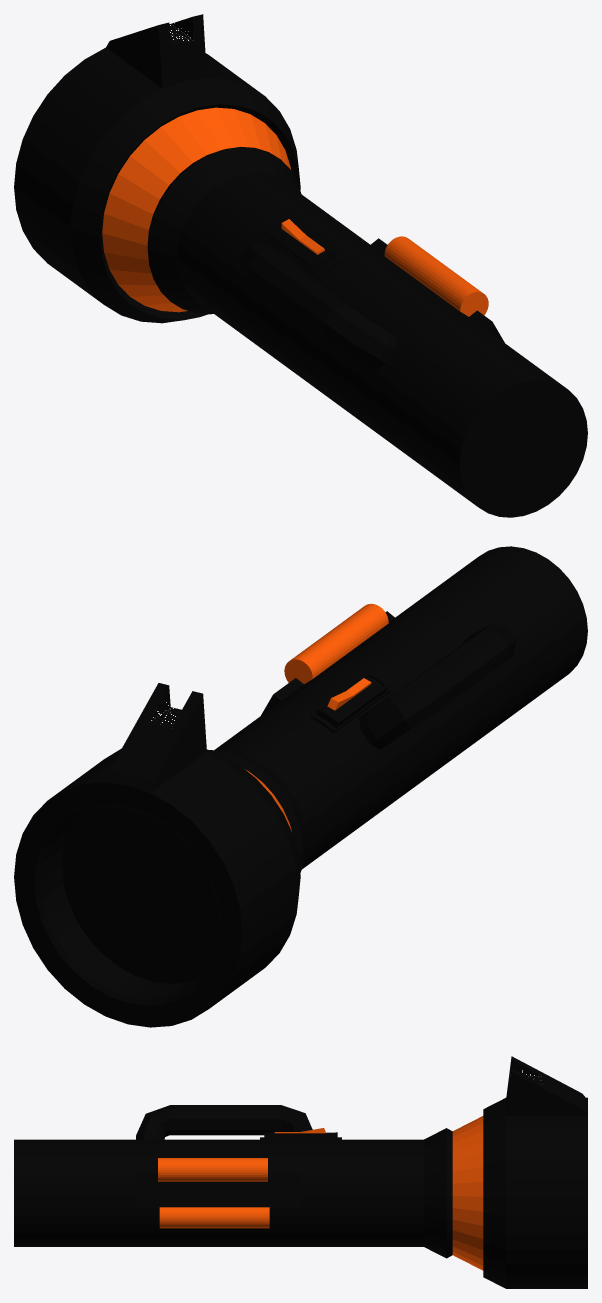
The model's file is somesortofweaponmaybe.fbx.
The picture shows the model from 3 angles, top to bottom: view 1: azimuth 30°, elevation 25°; view 2: azimuth 150°, elevation 25°; view 3: azimuth 270°, elevation 25°; orthographic projection. The views are drawn at different scales.
Parts seen in each view (by area): view 1: Weapon; view 2: Weapon; view 3: Weapon.
Part boxes in pixels (bbox=[...]): Weapon: bbox=[14, 14, 587, 517]; Weapon: bbox=[14, 546, 587, 1027]; Weapon: bbox=[14, 1056, 587, 1288].
Bounding box in the file's own units: 0.2 × 0.2491 × 0.6.
